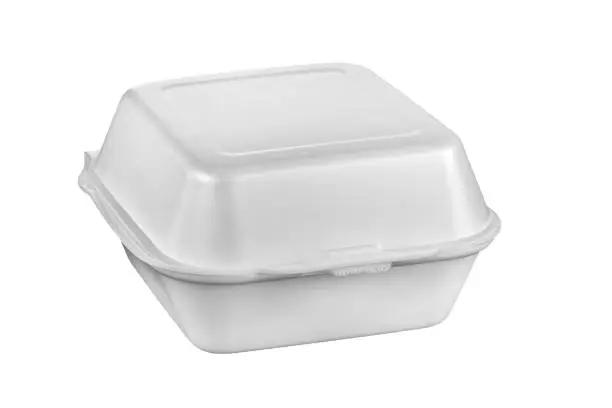glass: (77, 58, 500, 354)
